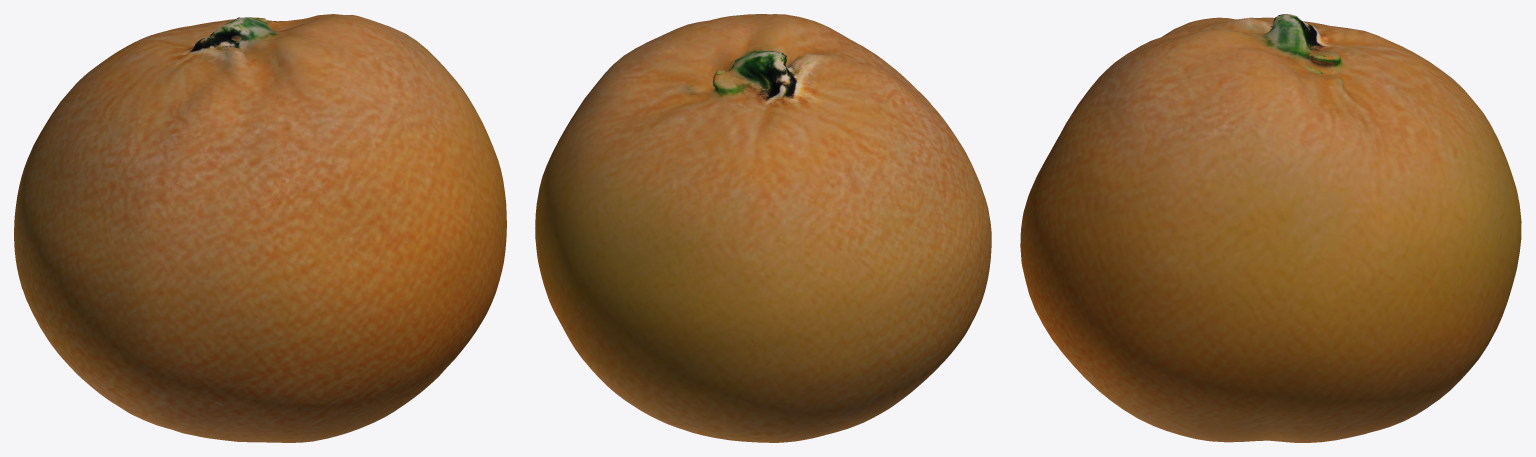
Rendered from e1788ef19fdc_normal_tangerine_mi.fbx.
3 views of the same model, side by side, from view 1: azimuth 30°, elevation 25°; view 2: azimuth 150°, elevation 25°; view 3: azimuth 270°, elevation 25° (orthographic). The views are drawn at different scales.
Visible parts, largest first — view 1: mesh; view 2: mesh; view 3: mesh.
Part boxes in pixels (x1,y1,x2,y2): mesh: [14, 14, 506, 442]; mesh: [535, 14, 991, 442]; mesh: [1020, 14, 1521, 442].
Bounding box in the file's own units: 98.52 × 86.69 × 99.94.
